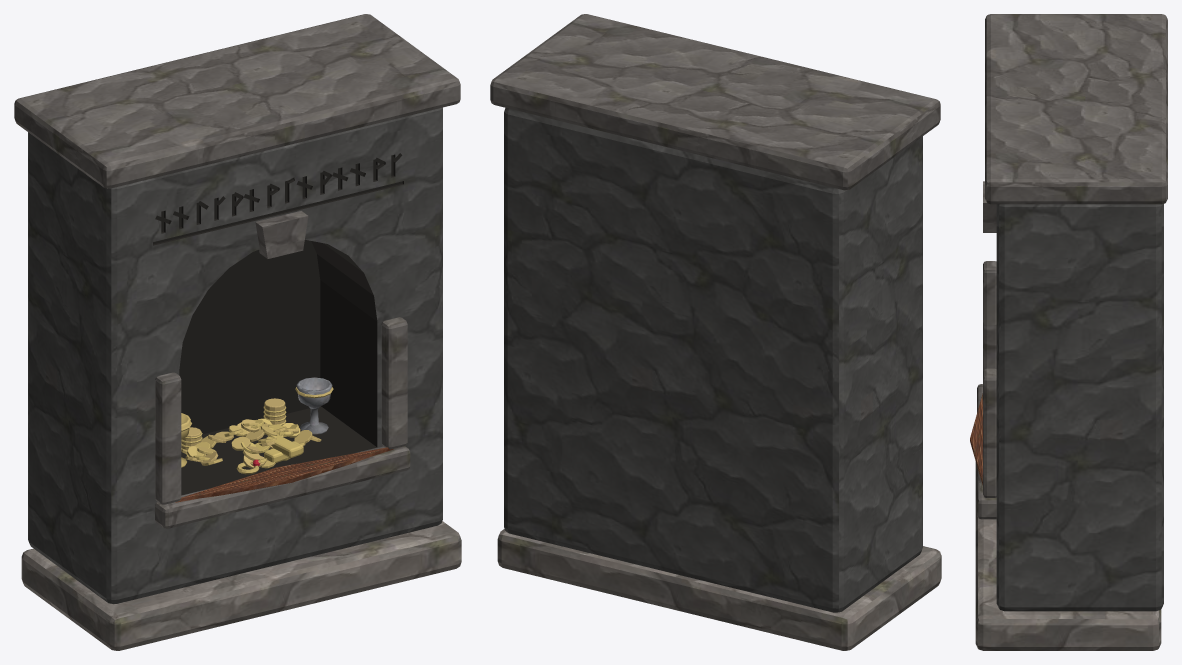
Rendered from th_niche_coins.glb.
3 views of the same model, side by side, from view 1: azimuth 30°, elevation 25°; view 2: azimuth 150°, elevation 25°; view 3: azimuth 270°, elevation 25° (orthographic). The views are drawn at different scales.
Visible parts, largest first — view 1: model; view 2: model; view 3: model.
Boxes of the visible parts, x1,y1,x2,y2 form: model: (14,14,461,650); model: (490,14,941,650); model: (970,14,1167,650).
Size of the model in its own units: 1.01 by 1.31 by 0.4971.
55 materials, 5 textured.
